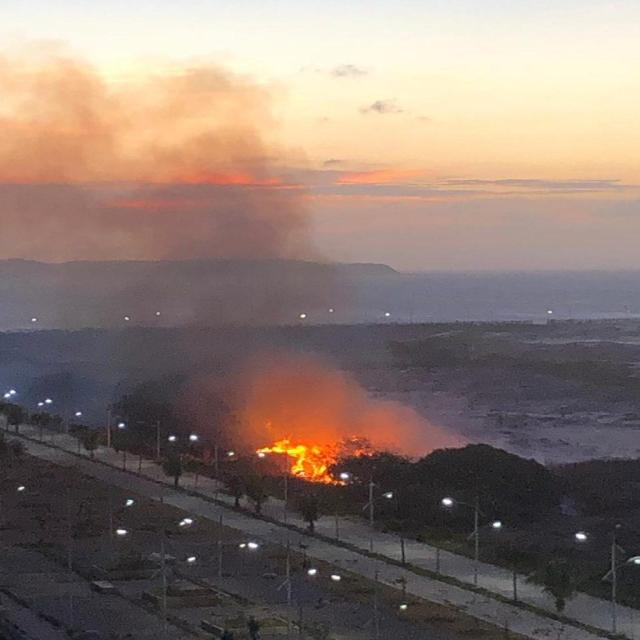Fire: (257, 442, 345, 484)
